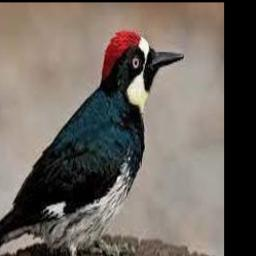Woodpecker: (0, 30, 185, 256)
